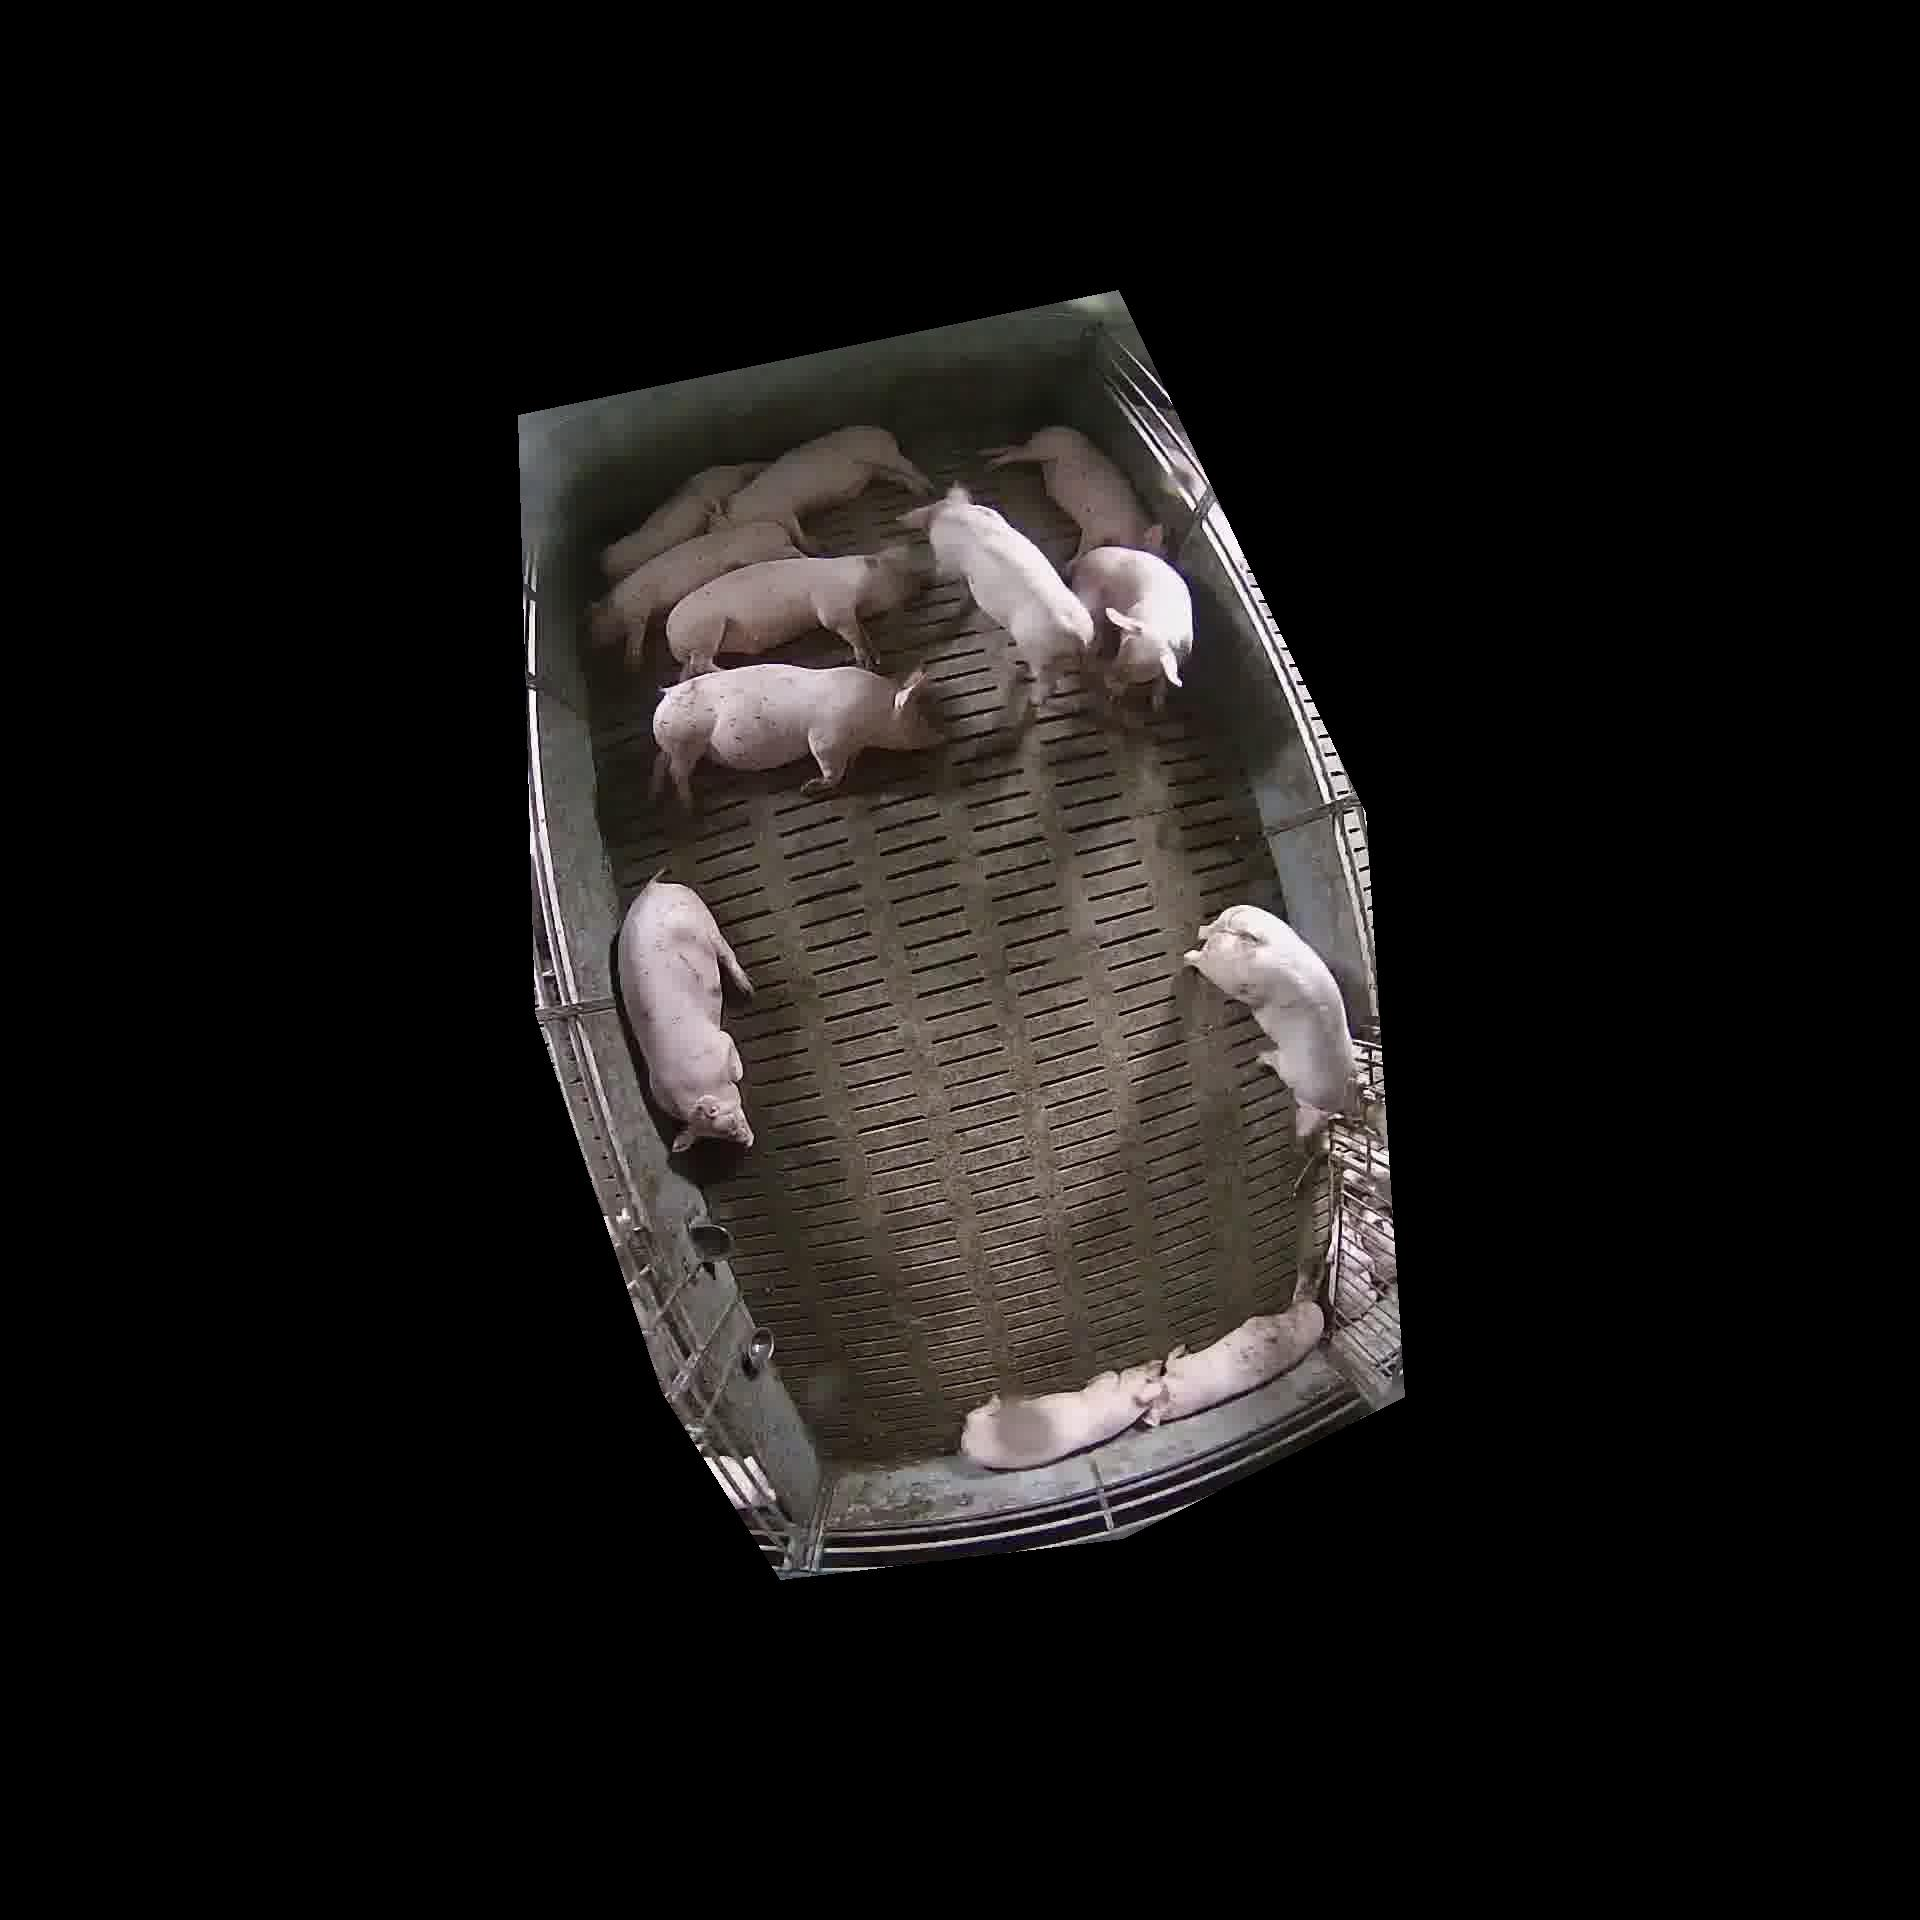pig: (898, 485, 1094, 707), (652, 665, 942, 805), (1185, 905, 1354, 1139), (617, 879, 753, 1152), (666, 547, 918, 677), (589, 520, 798, 666), (721, 425, 927, 543), (985, 425, 1162, 554), (960, 1361, 1162, 1466), (1148, 1298, 1320, 1421), (600, 461, 761, 582), (1071, 547, 1190, 709)
